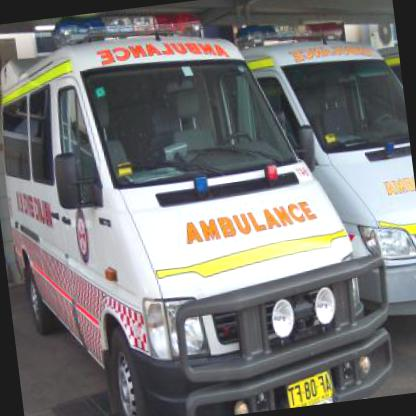truck: (0, 0, 399, 415), (231, 14, 415, 341), (373, 32, 406, 128)
